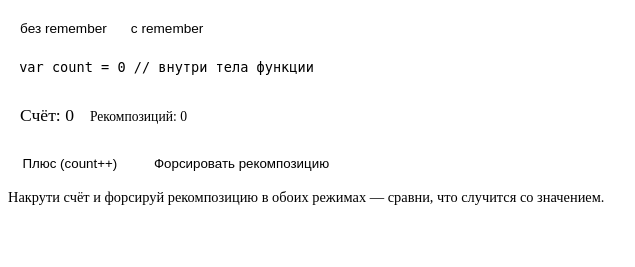
Scenario: с remember: рекомпозиция сохраняет счёт
The width and height of the screenshot is (635, 267).
Click the button "с remember".
click(167, 28)  # box [119,16,215,41]
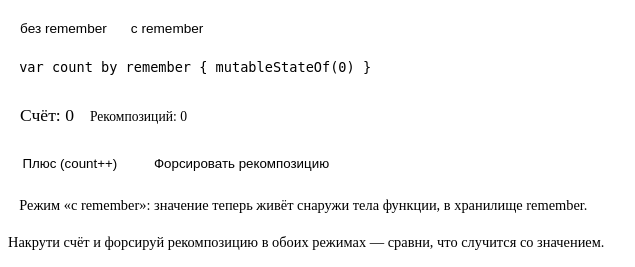
Now the text "var count by remember { mutableStateOf(0) }" is shown, box [19,59,371,75]
Click the button "Плюс (count++)".
click(70, 164)  # box [8,150,132,177]
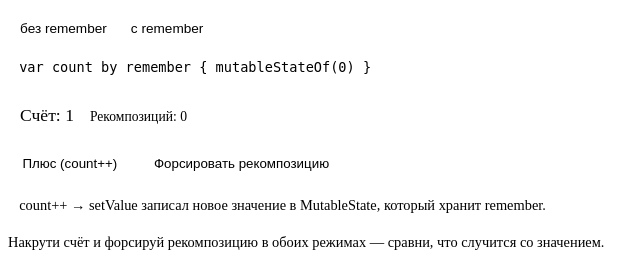
Click the button "Плюс (count++)".
click(70, 164)  # box [8,150,132,177]
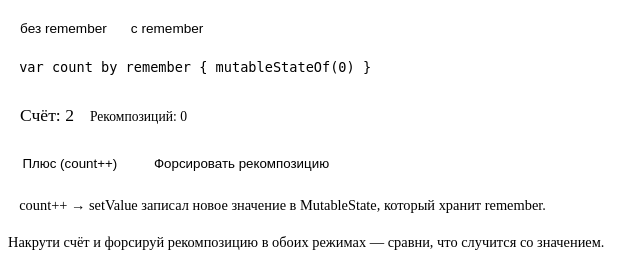
Click the button "Форсировать рекомпозицию".
click(242, 164)  # box [140,150,344,177]
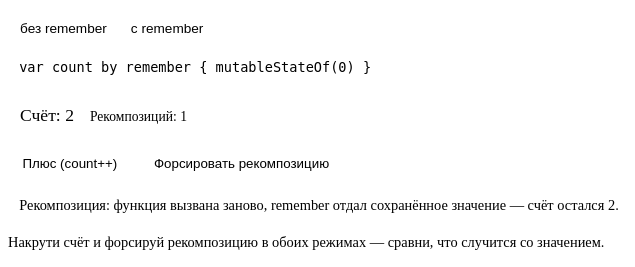
Now the text "Счёт: 2" is shown, box [20,105,74,126]
Now the text "remember отдал сохранённое значение" is shown, box [19,197,619,213]
